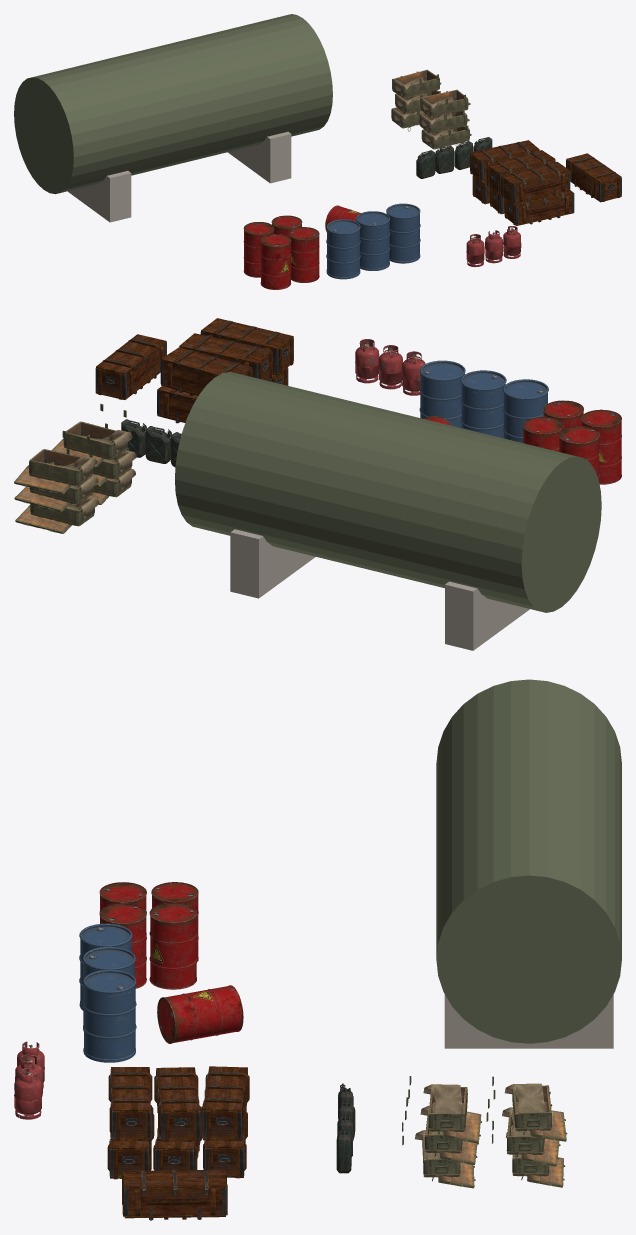
File: depot.glb
The picture shows the model from 3 angles, top to bottom: view 1: azimuth 30°, elevation 25°; view 2: azimuth 150°, elevation 25°; view 3: azimuth 270°, elevation 25°; orthographic projection. The views are drawn at different scales.
Parts seen in each view (by area): view 1: depot_tank_fuel, depot_11_wooden_military_crate, depot_tank_saddle-1, depot_tank_saddle1, depot_17_barrel_03, depot_19_barrel_03, depot_12_wooden_military_crate, depot_18_barrel_03, depot_15_Barrel_01, depot_08_wooden_military_crate, depot_16_Barrel_01, depot_09_wooden_military_crate (+16 smaller); view 2: depot_tank_fuel, depot_tank_saddle1, depot_tank_saddle-1, depot_12_wooden_military_crate, depot_18_barrel_03, depot_09_wooden_military_crate, depot_05_old_military_crate, depot_19_barrel_03, depot_11_wooden_military_crate, depot_04_old_military_crate, depot_17_barrel_03, depot_10_wooden_military_crate (+14 smaller); view 3: depot_tank_fuel, depot_12_wooden_military_crate, depot_19_barrel_03, depot_14_Barrel_01, depot_20_Barrel_01, depot_tank_saddle1, depot_10_wooden_military_crate, depot_09_wooden_military_crate, depot_11_wooden_military_crate, depot_04_old_military_crate, depot_05_old_military_crate, depot_16_Barrel_01 (+12 smaller).
Boxes of the visible parts, box(x1,y1,x2,y2) form: depot_tank_fuel: box(14, 14, 332, 194); depot_11_wooden_military_crate: box(501, 161, 570, 204); depot_tank_saddle-1: box(68, 170, 131, 222); depot_tank_saddle1: box(228, 131, 291, 183); depot_17_barrel_03: box(326, 219, 360, 279); depot_19_barrel_03: box(386, 203, 420, 263); depot_12_wooden_military_crate: box(566, 153, 621, 202); depot_18_barrel_03: box(356, 211, 390, 270); depot_15_Barrel_01: box(260, 234, 291, 289); depot_08_wooden_military_crate: box(504, 190, 574, 225); depot_16_Barrel_01: box(289, 227, 319, 282); depot_09_wooden_military_crate: box(470, 140, 539, 181); depot_tank_fuel: box(175, 372, 601, 612); depot_tank_saddle1: box(230, 529, 315, 598); depot_tank_saddle-1: box(445, 581, 529, 650); depot_12_wooden_military_crate: box(95, 334, 166, 399); depot_18_barrel_03: box(460, 370, 506, 438); depot_09_wooden_military_crate: box(160, 347, 252, 395); depot_05_old_military_crate: box(14, 430, 97, 494); depot_19_barrel_03: box(419, 360, 465, 427); depot_11_wooden_military_crate: box(200, 318, 293, 374); depot_04_old_military_crate: box(51, 404, 132, 467); depot_17_barrel_03: box(503, 379, 548, 442); depot_10_wooden_military_crate: box(179, 333, 272, 380); depot_tank_fuel: box(436, 679, 621, 1043); depot_12_wooden_military_crate: box(122, 1169, 227, 1220); depot_19_barrel_03: box(83, 969, 136, 1062); depot_14_Barrel_01: box(149, 902, 196, 989); depot_20_Barrel_01: box(157, 985, 243, 1043); depot_tank_saddle1: box(444, 994, 613, 1048); depot_10_wooden_military_crate: box(154, 1067, 201, 1142); depot_09_wooden_military_crate: box(201, 1066, 249, 1141); depot_11_wooden_military_crate: box(108, 1067, 153, 1141); depot_04_old_military_crate: box(408, 1076, 481, 1143); depot_05_old_military_crate: box(492, 1076, 567, 1141); depot_16_Barrel_01: box(99, 903, 146, 988).
Bounding box in the file's own units: 9.52 × 2.77 × 7.21.
9 materials, 6 textured.
